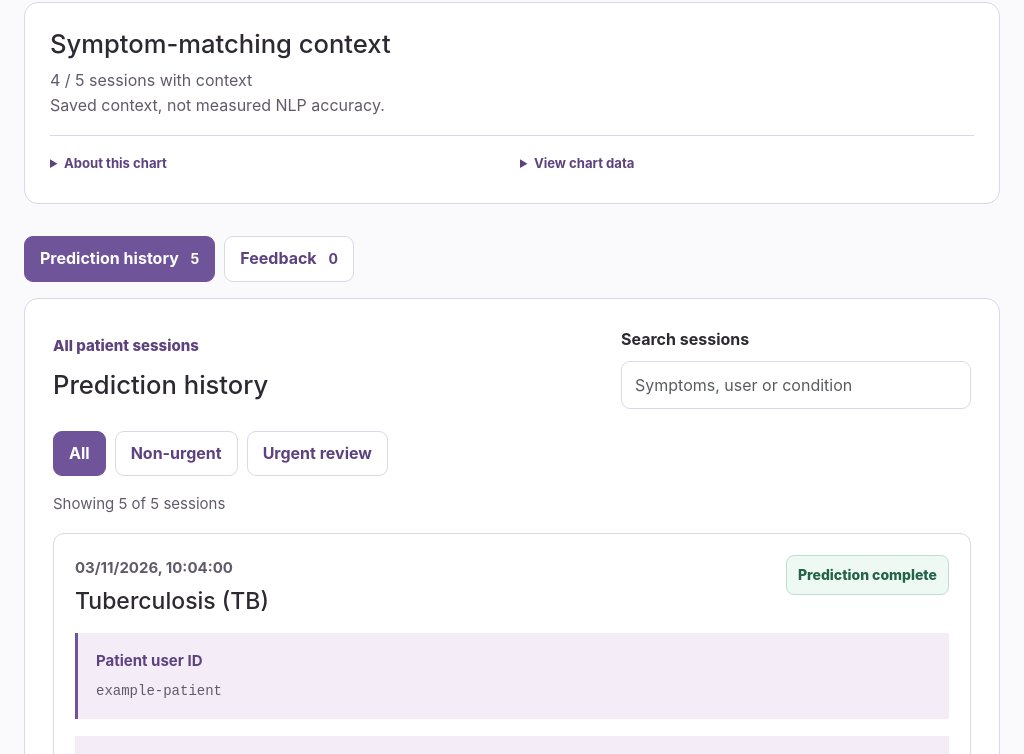
it: administrator candidate history list › does not reveal a withheld condition through search
(page scrolled)
Type "Hidden tumor result" into the search field labelled "Search sessions" at (796, 385), box [621,361,971,409]
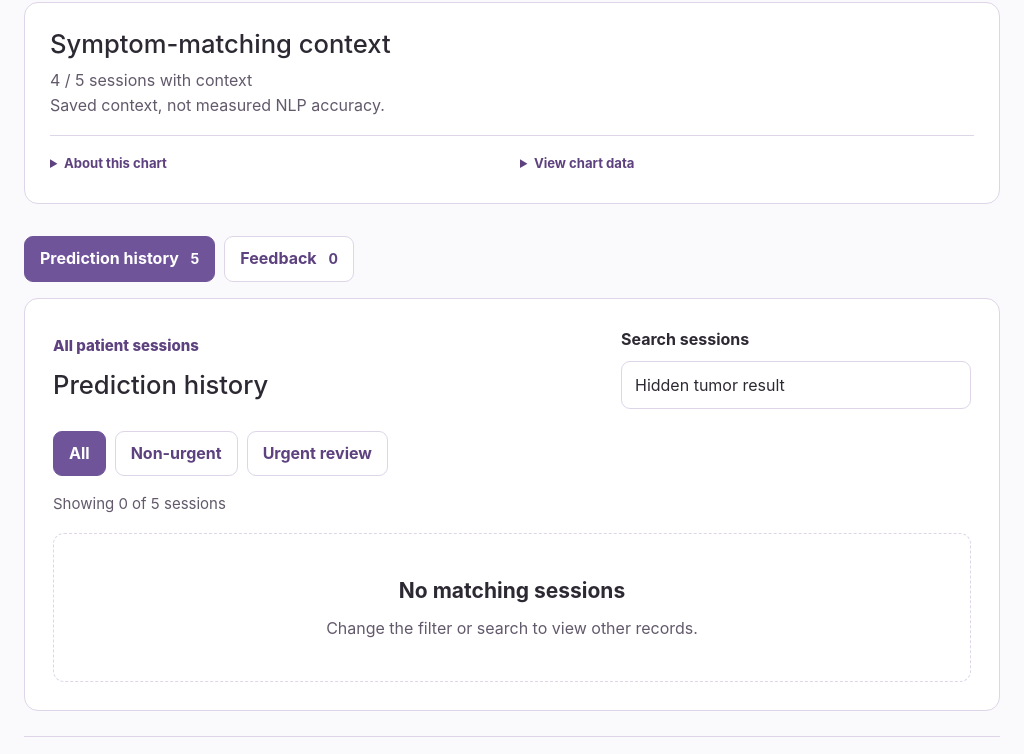
Check: the text "No matching sessions" is shown, box [399,578,625,603]
